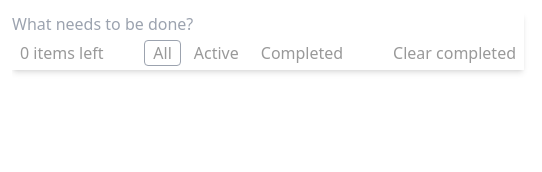
Test: TodoList › should add new todo
Type "new todo" into the field with test id "add-todo-input" at (128, 24), box [12,12,243,36]
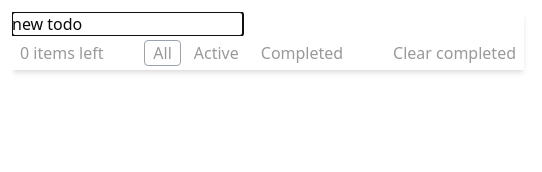
Type "[Enter]" into the field with test id "add-todo-input" at (128, 24), box [12,12,243,36]
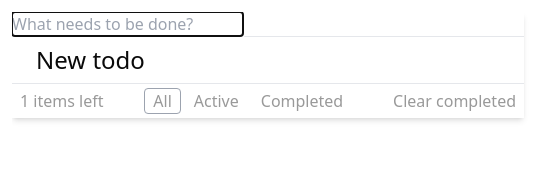
Check: the field with test id "add-todo-input" is empty, box [12,12,243,36]
Check: the text "New todo" is shown, box [36,44,145,76]
